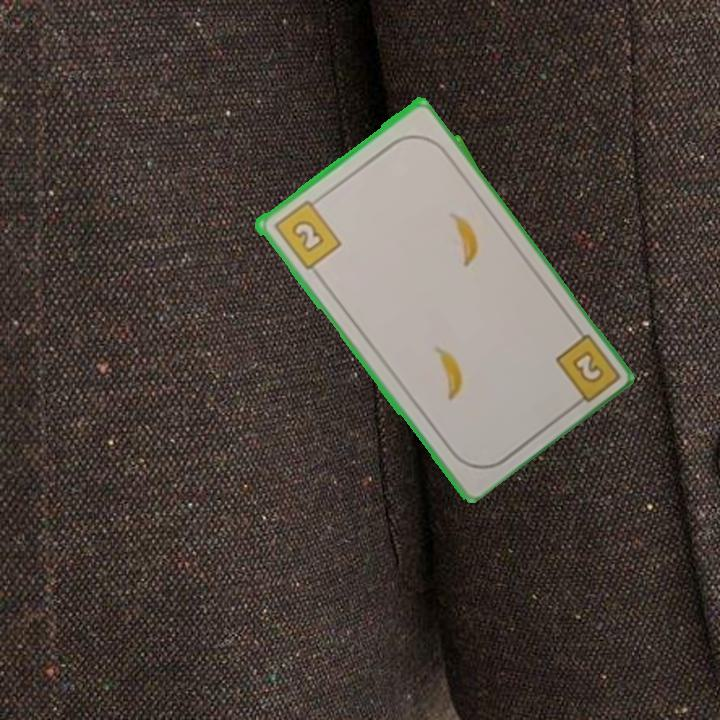2b: (269, 193, 344, 273), (551, 329, 619, 411)
